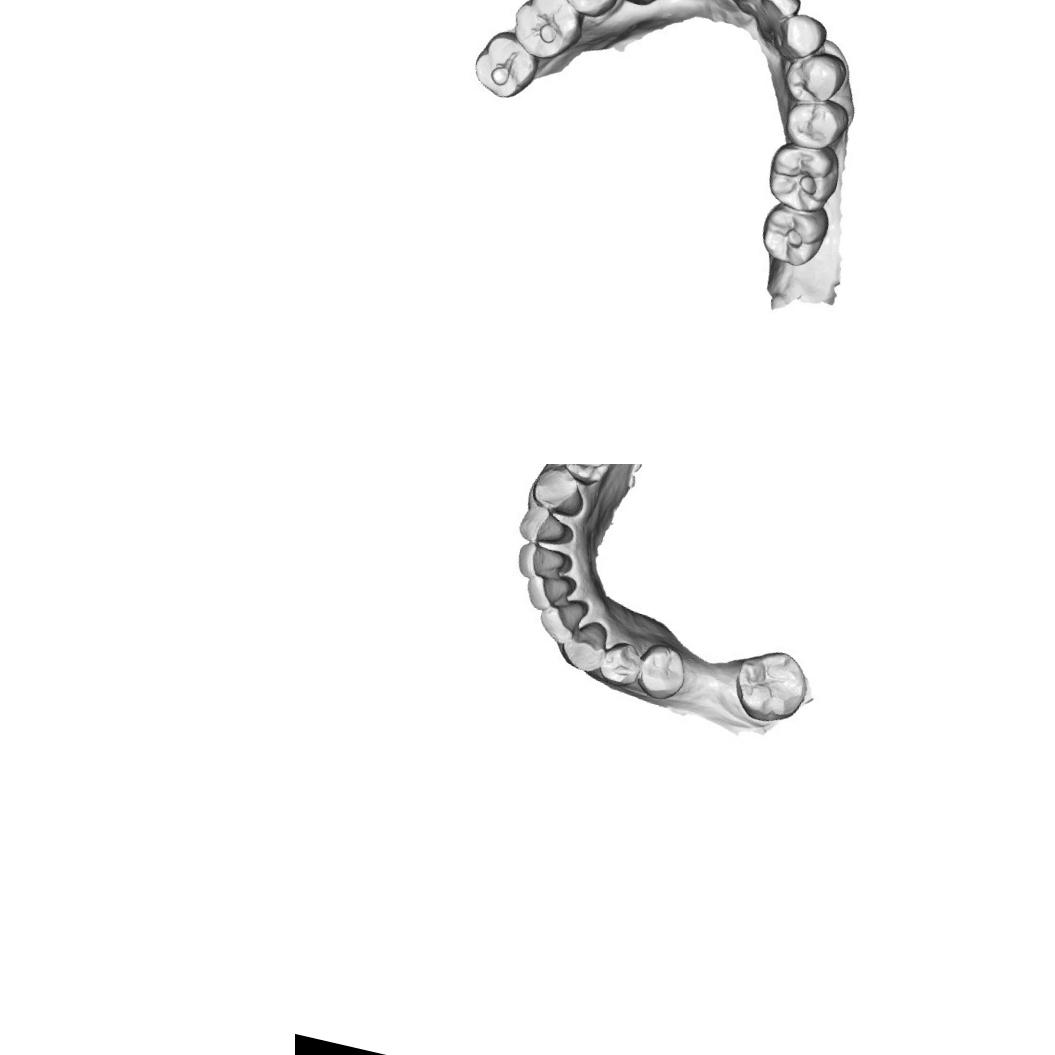canine: (559, 613, 618, 678), (769, 5, 830, 66), (511, 500, 579, 554)
incisor: (532, 594, 592, 649), (523, 565, 581, 616), (514, 538, 574, 585), (749, 0, 804, 40), (723, 0, 776, 23)
molar: (728, 641, 820, 730), (762, 137, 843, 218), (466, 24, 545, 106), (754, 198, 833, 272), (503, 0, 590, 66)
premolar: (778, 45, 848, 110), (778, 94, 849, 158), (592, 639, 652, 697), (528, 464, 589, 521), (633, 642, 689, 703), (552, 464, 616, 489), (554, 0, 623, 21)
